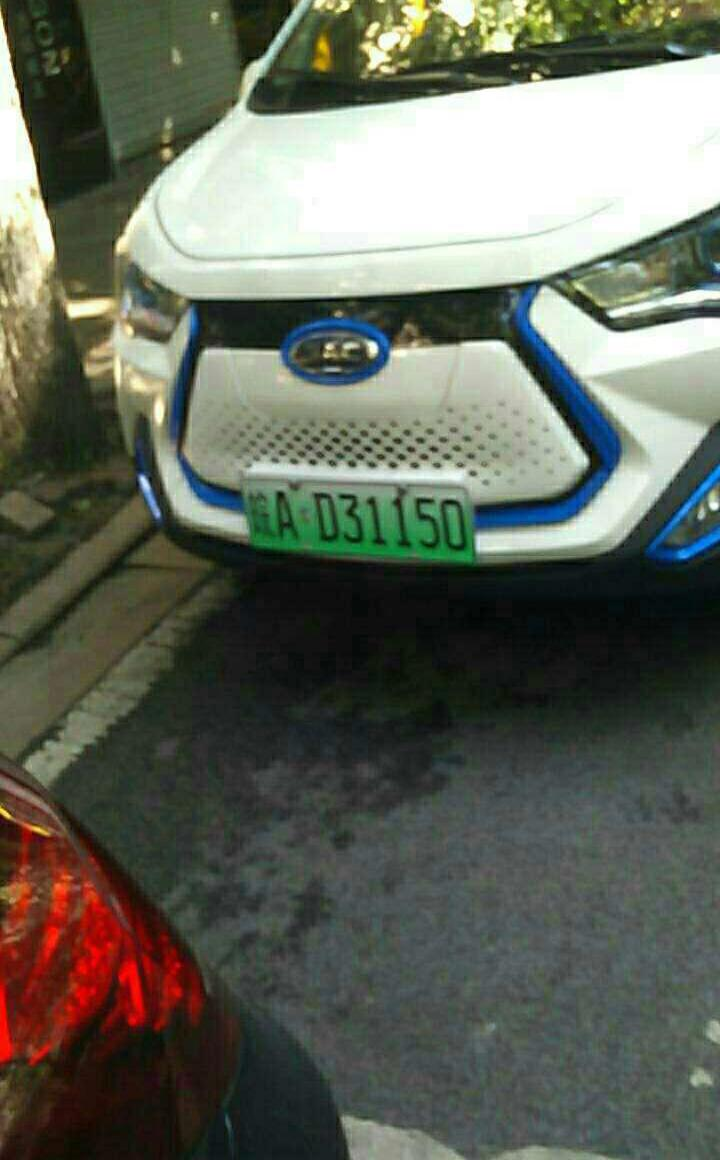car_id: (241, 481, 475, 555)
